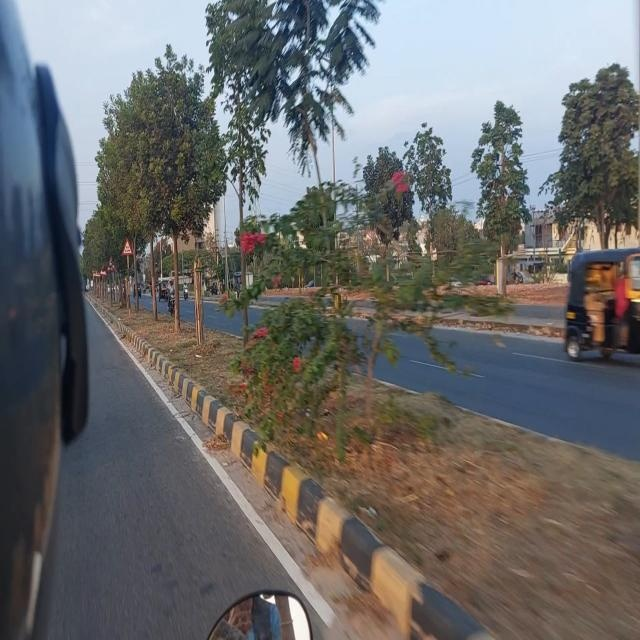bien_nguy_hiem: (121, 236, 133, 258)
